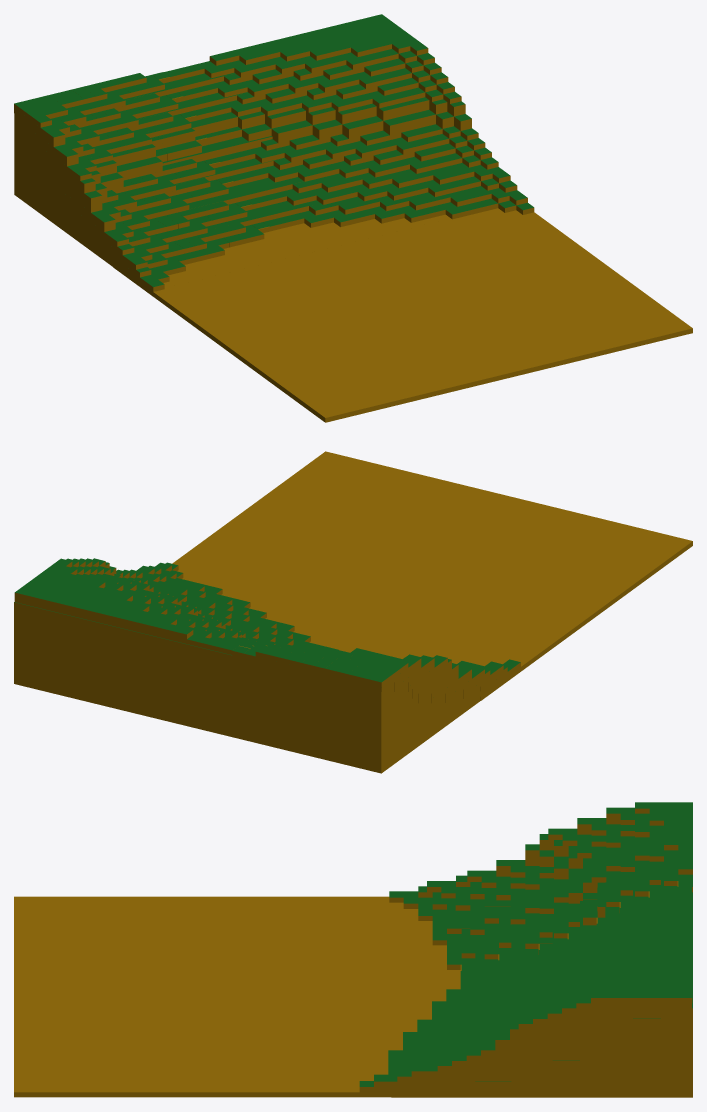
The model's file is field(plane).fbx.
3 views of the same model, one above another, from view 1: azimuth 30°, elevation 25°; view 2: azimuth 150°, elevation 25°; view 3: azimuth 270°, elevation 25° (orthographic). The views are drawn at different scales.
Parts seen in each view (by area): view 1: 立方体.001; view 2: 立方体.001; view 3: 立方体.001.
Part boxes in pixels (box(x1,y1,x2,y2)): 立方体.001: box(14, 14, 692, 422); 立方体.001: box(14, 451, 692, 773); 立方体.001: box(14, 802, 692, 1097).
Size of the model in its own units: 320 by 75.95 by 470.
